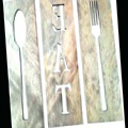fork: (79, 1, 113, 112)
